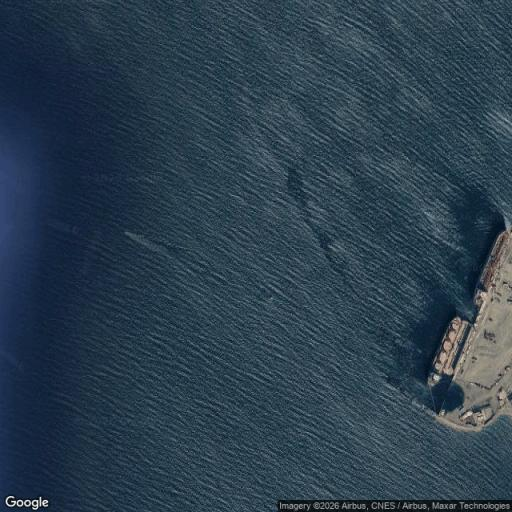ship: (428, 316, 469, 386), (475, 231, 510, 307), (124, 231, 168, 255), (504, 216, 511, 231)
